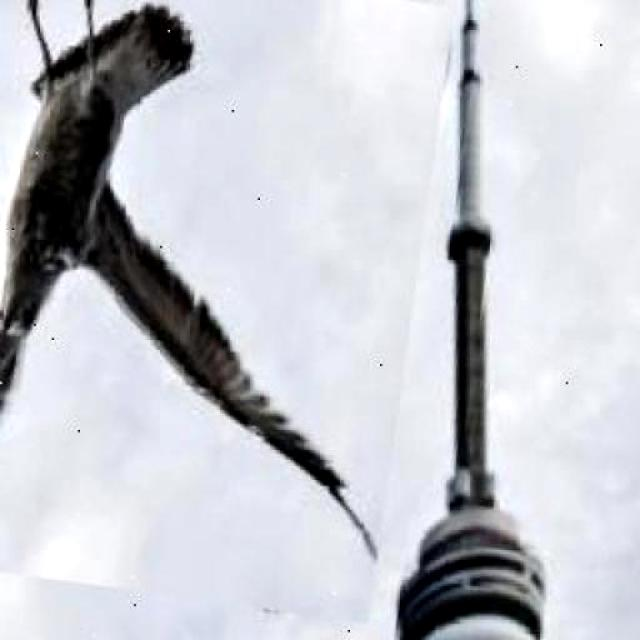airplane: (0, 0, 455, 624)
